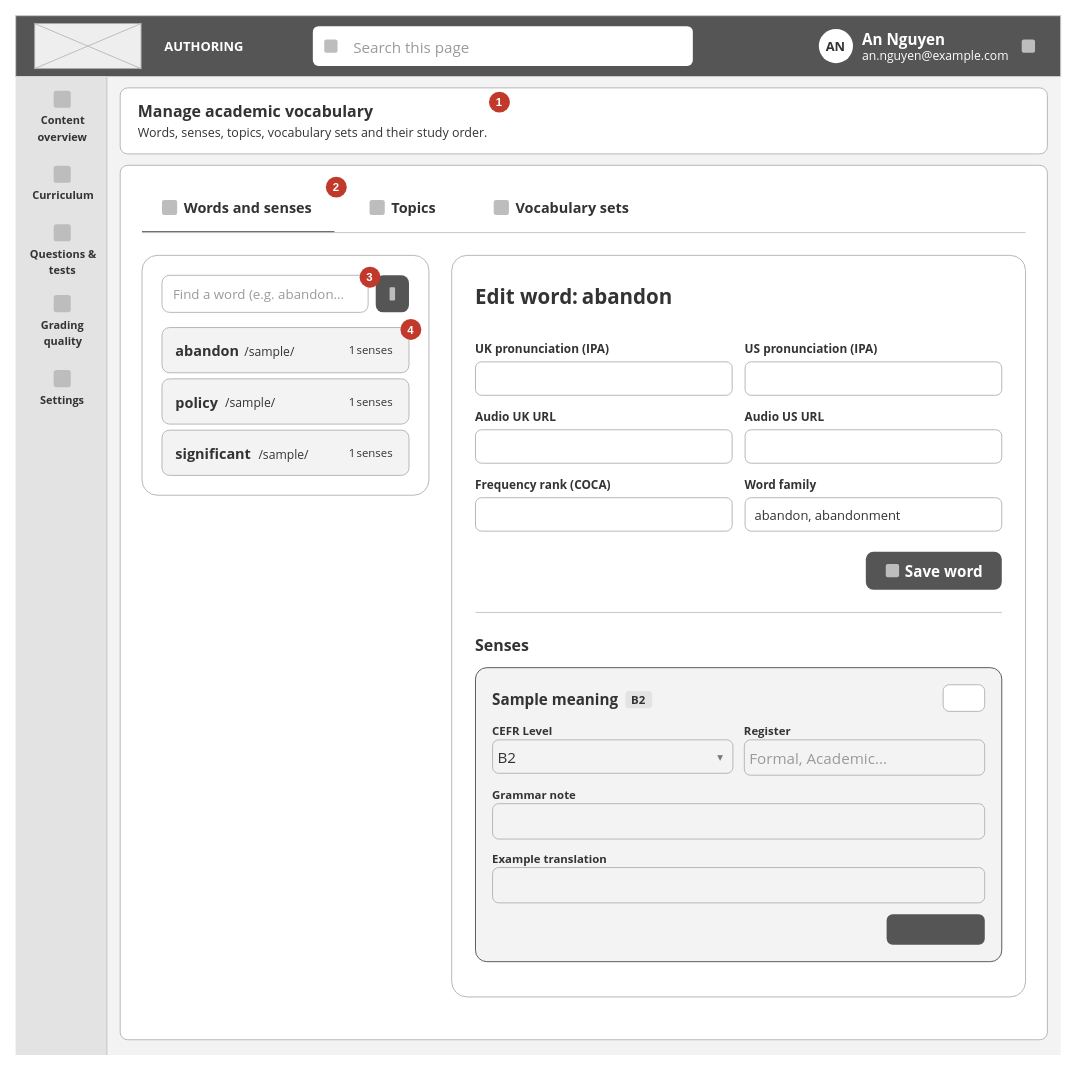
Image size: 1076x1071. Some labels were removed from this diagram. Each missing label, with the centre of its shape:
"Edit" belongs at point (963, 697).
"Save sense" belongs at point (935, 929).
